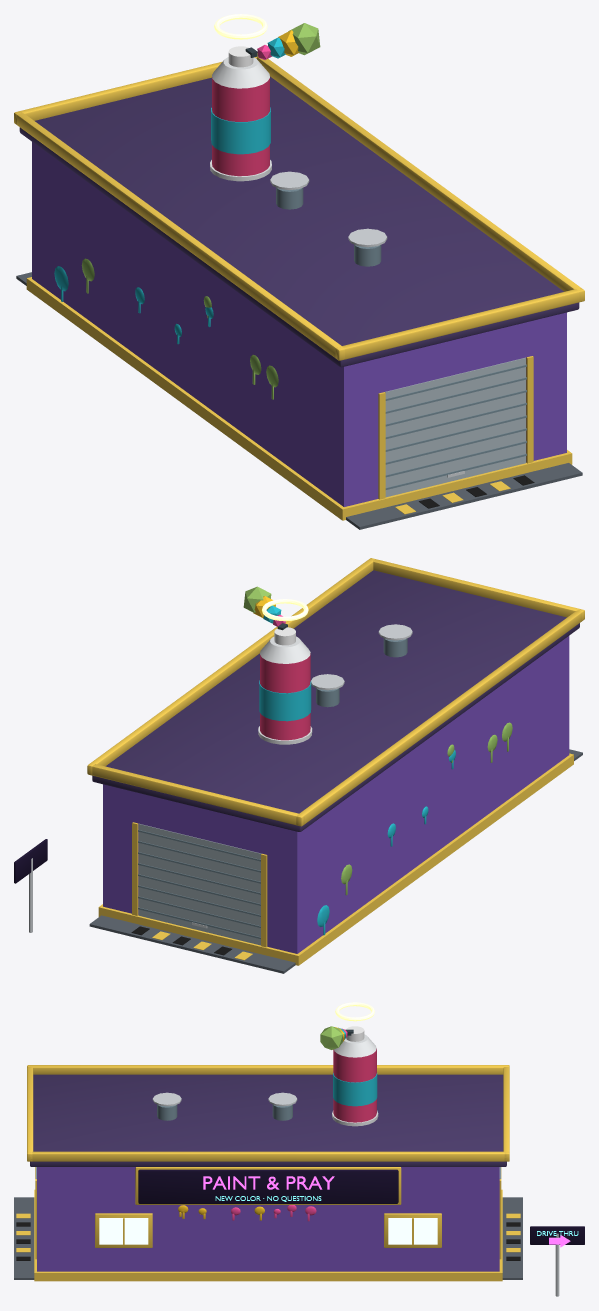
The model's file is streets_paint.glb.
3 renders of one model, top to bottom at view 1: azimuth 30°, elevation 25°; view 2: azimuth 150°, elevation 25°; view 3: azimuth 270°, elevation 25°, orthographic. The views are drawn at different scales.
Visible parts, largest first — view 1: PaintBooth, Door_Out, Mascot, Vents, MascotPuff, Halo; view 2: PaintBooth, Door_In, Mascot, Vents, DriveThru, MascotPuff; view 3: PaintBooth, PaintSign, Mascot, DriveThru, Vents, MascotPuff.
Boxes of the visible parts, <box> form: PaintBooth: <box>14,53,584,529</box>; Door_Out: <box>385,357,526,497</box>; Mascot: <box>210,46,271,181</box>; Vents: <box>270,171,387,266</box>; MascotPuff: <box>257,23,320,59</box>; Halo: <box>214,14,267,39</box>; PaintBooth: <box>87,558,584,973</box>; Door_In: <box>138,823,261,945</box>; Mascot: <box>258,623,312,744</box>; Vents: <box>311,624,412,707</box>; DriveThru: <box>14,839,47,932</box>; MascotPuff: <box>243,586,285,626</box>; PaintBooth: <box>14,1065,522,1281</box>; PaintSign: <box>135,1167,401,1204</box>; Mascot: <box>332,1026,378,1126</box>; DriveThru: <box>530,1226,584,1296</box>; Vents: <box>152,1092,297,1120</box>; MascotPuff: <box>320,1026,347,1049</box>.
Size of the model in its own units: 8.33 by 8.81 by 19.75.
